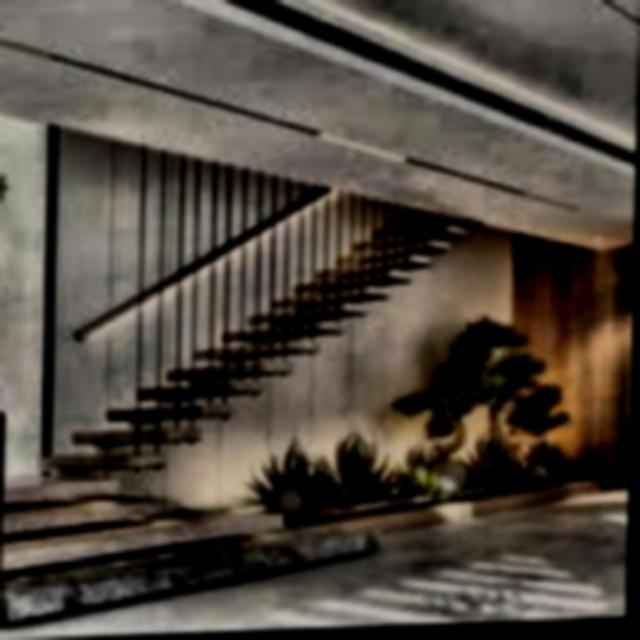stair: (80, 205, 488, 468), (0, 476, 377, 620)
